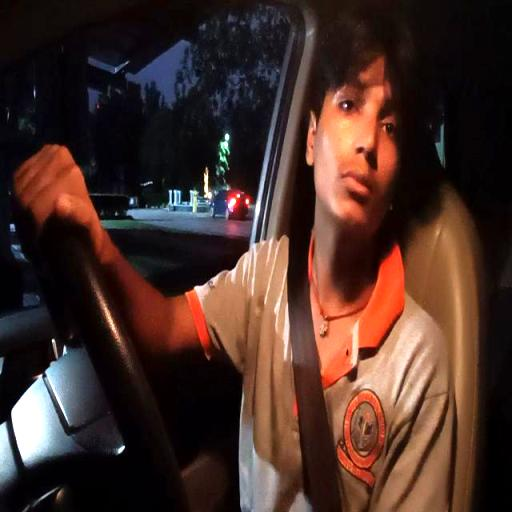Reaching_behind: (220, 34, 450, 496)
